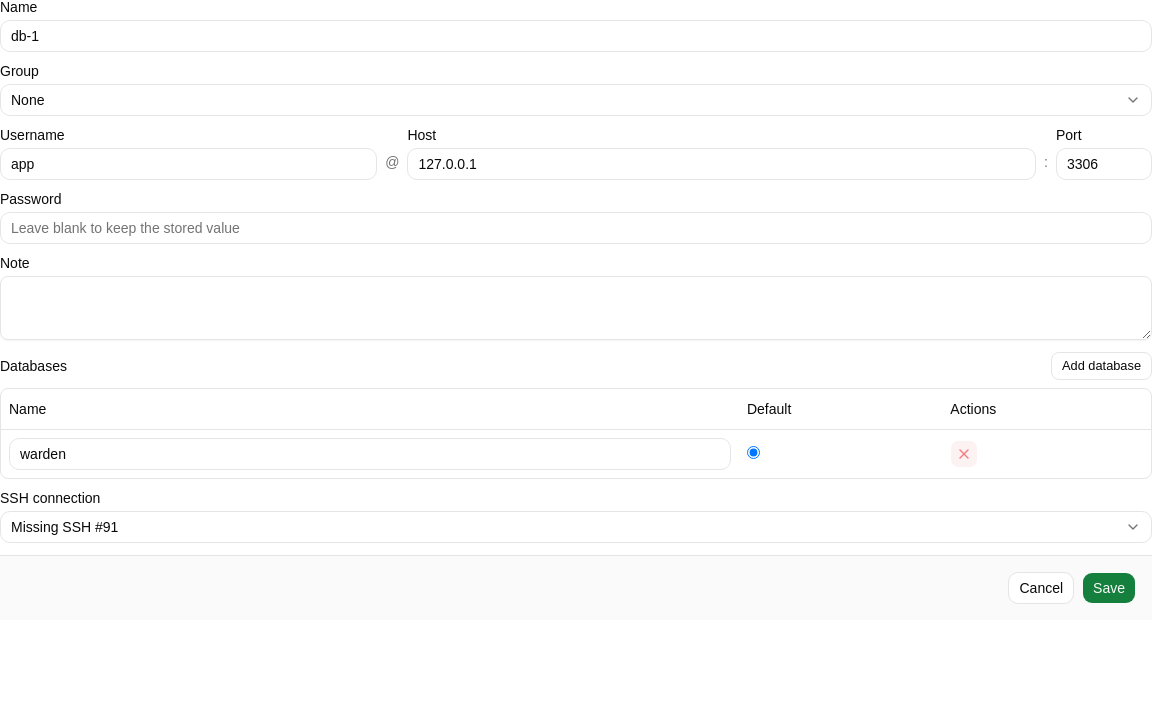
DBForm › keeps Direct plus a Missing option when SSH profiles are unavailable
The width and height of the screenshot is (1152, 720).
Click the dropdown named "SSH connection" at (65, 526), box x1=0 y1=510 x2=1151 y2=542
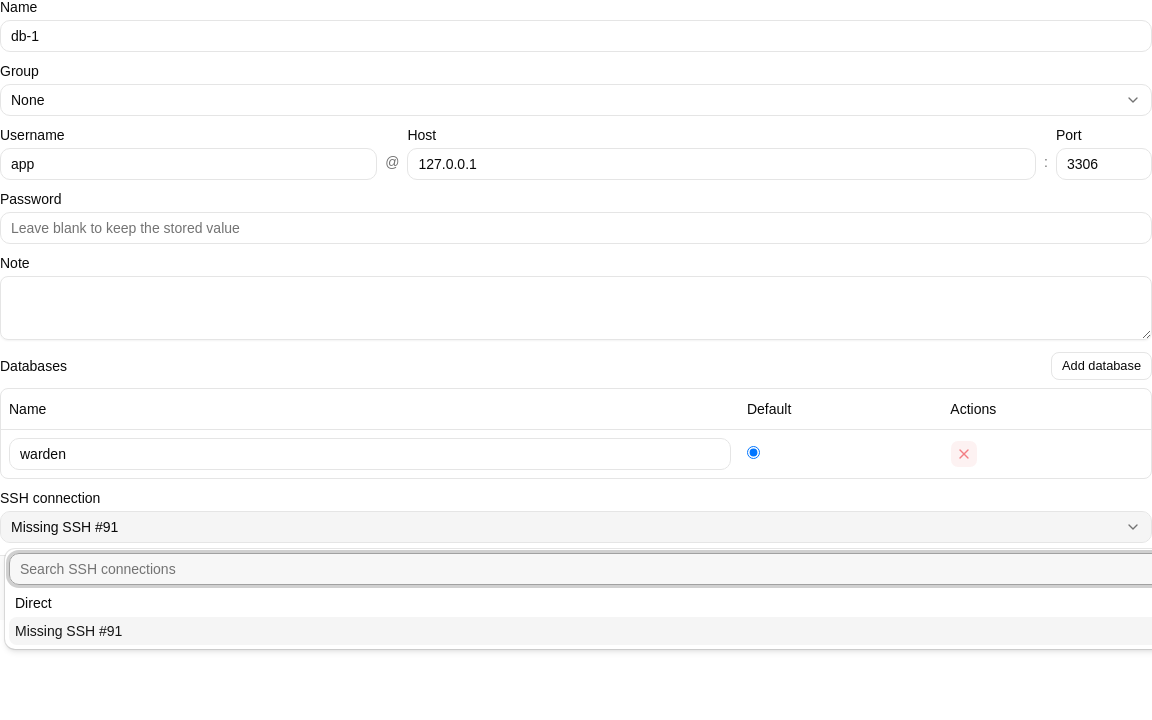
Result: the option "Direct" is shown at x1=15 y1=595 x2=52 y2=611
